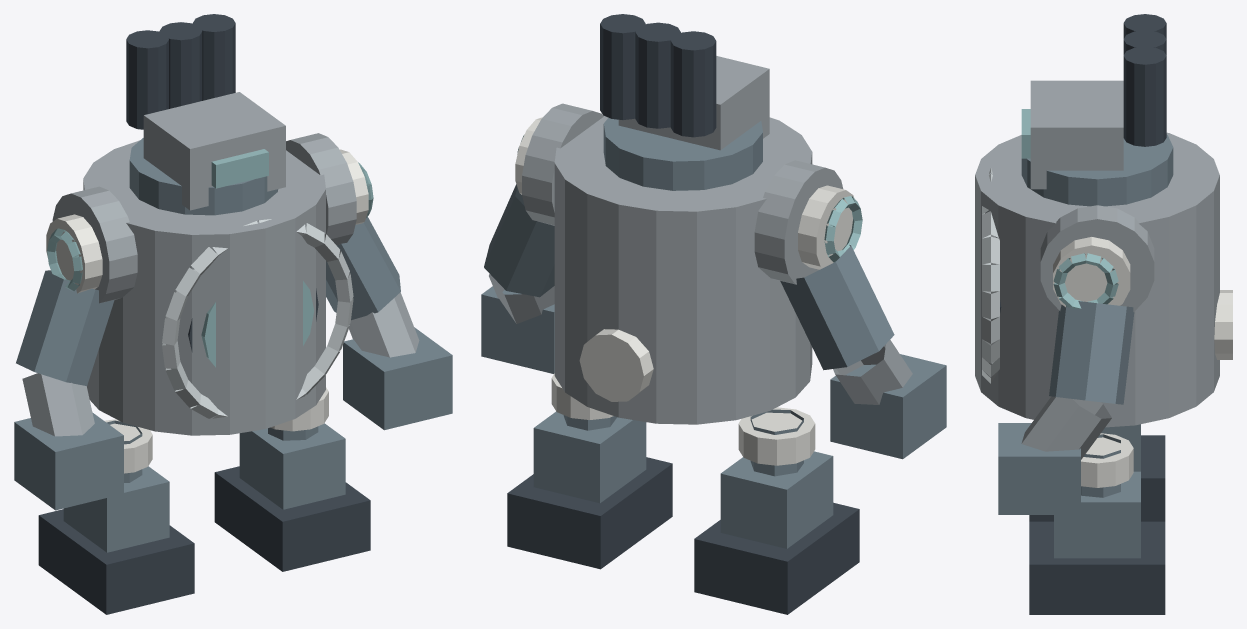
File: Magma_Colossus.obj
3 views of the same model, side by side, from view 1: azimuth 30°, elevation 25°; view 2: azimuth 150°, elevation 25°; view 3: azimuth 270°, elevation 25° (orthographic). The views are drawn at different scales.
Parts seen in each view (by area): view 1: Magma_Colossus; view 2: Magma_Colossus; view 3: Magma_Colossus.
Part boxes in pixels (x1,y1,x2,y2): Magma_Colossus: (14, 14, 452, 614); Magma_Colossus: (481, 14, 946, 614); Magma_Colossus: (975, 14, 1232, 614).
Bounding box in the file's own units: 4.06 × 4.98 × 2.28.
